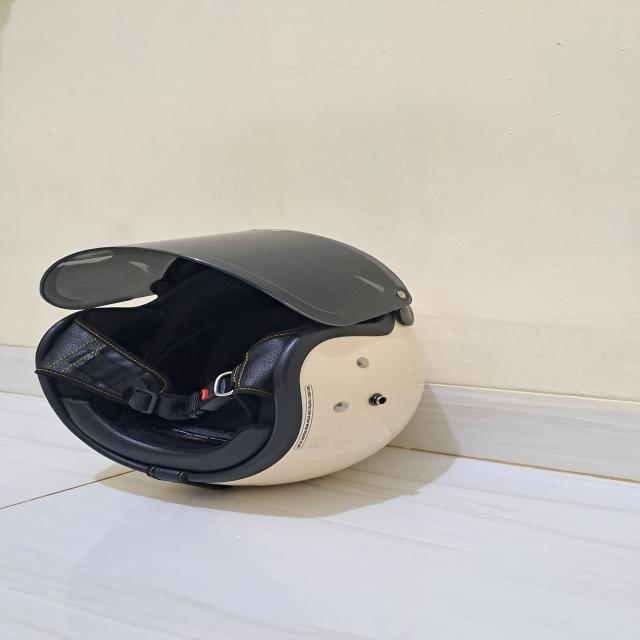Helm: (18, 223, 443, 493)
